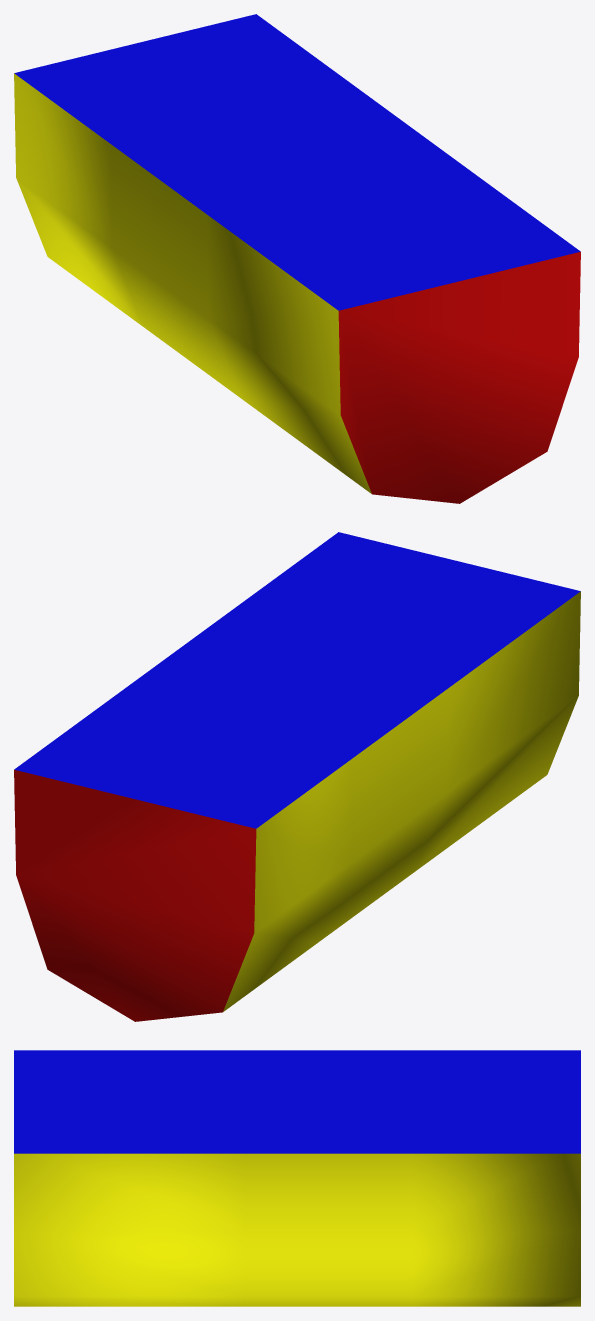
3 views of the same model, one above another, from view 1: azimuth 30°, elevation 25°; view 2: azimuth 150°, elevation 25°; view 3: azimuth 270°, elevation 25° (orthographic). The views are drawn at different scales.
Parts seen in each view (by area): view 1: polySurface108; view 2: polySurface108; view 3: polySurface108.
Boxes of the visible parts, x1,y1,x2,y2 form: polySurface108: (14,14,580,503); polySurface108: (14,532,580,1021); polySurface108: (14,1050,580,1306).
Size of the model in its own units: 23.58 by 20.7 by 54.7.
